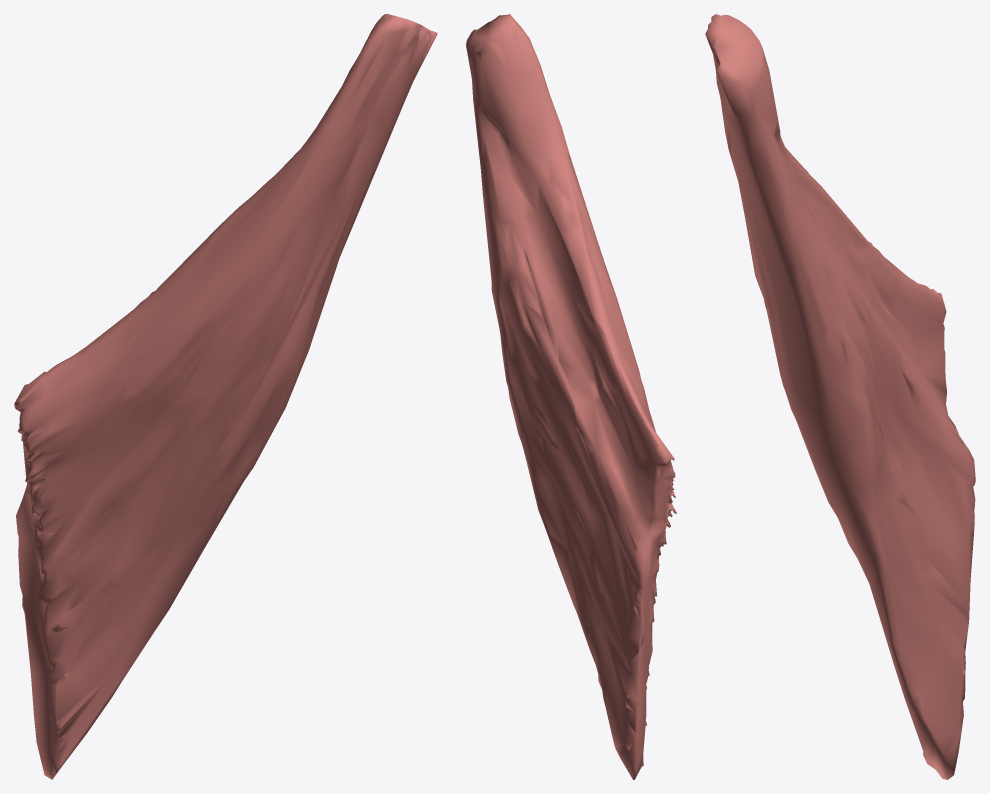
3 renders of one model, left to right at view 1: azimuth 30°, elevation 25°; view 2: azimuth 150°, elevation 25°; view 3: azimuth 270°, elevation 25°, orthographic. The views are drawn at different scales.
Parts seen in each view (by area): view 1: ZA_aedcebca63c888c1; view 2: ZA_aedcebca63c888c1; view 3: ZA_aedcebca63c888c1.
Boxes of the visible parts, x1,y1,x2,y2 form: ZA_aedcebca63c888c1: (14, 14, 437, 779); ZA_aedcebca63c888c1: (466, 14, 676, 779); ZA_aedcebca63c888c1: (705, 14, 975, 779).
Size of the model in its own units: 0.0791 by 0.1763 by 0.0478.
